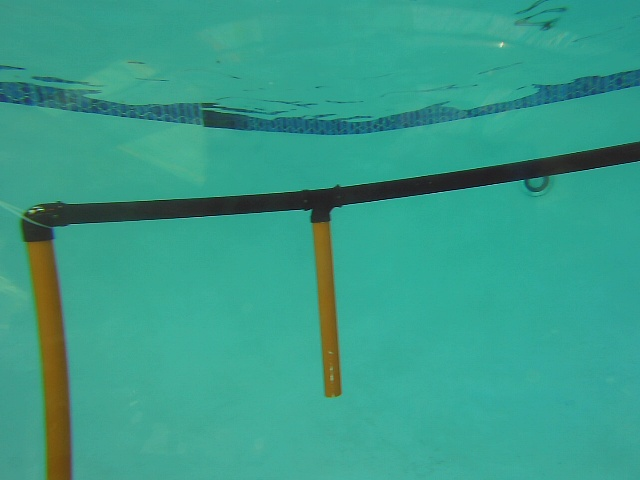Gate: (15, 230, 83, 479), (305, 212, 345, 408)
